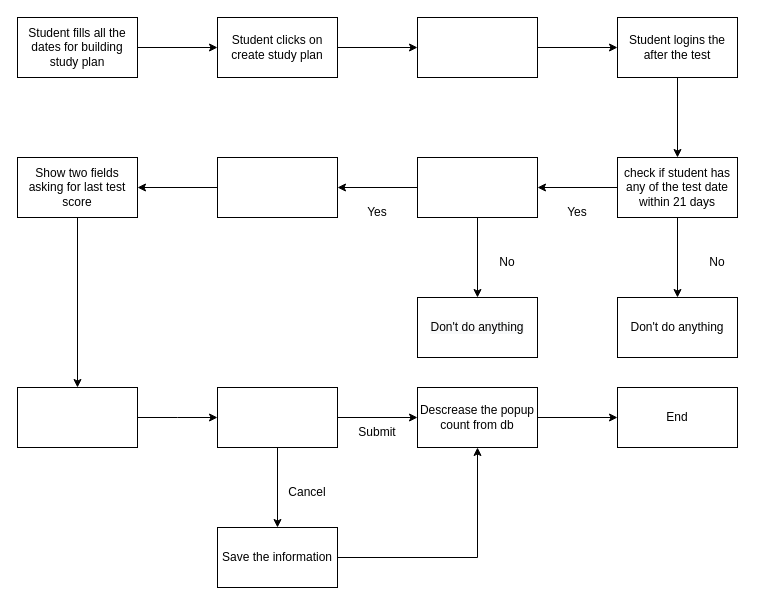
Some shapes in this 765 by 605 pixel diagram are drawn without their labels. Each missing label, with the centre of its shape:
"Ask for the future expectations ( dropdown )" belongs at [77,417].
"Check if the filetered entries has popupcount greater than 0" belongs at [477,187].
"Show the popup asking information from the student" belongs at [277,187].
"Student hits on cancel or submit" belongs at [277,417].
"While creating study plan keep testdate+1 entries in some separate collection" belongs at [477,47].
